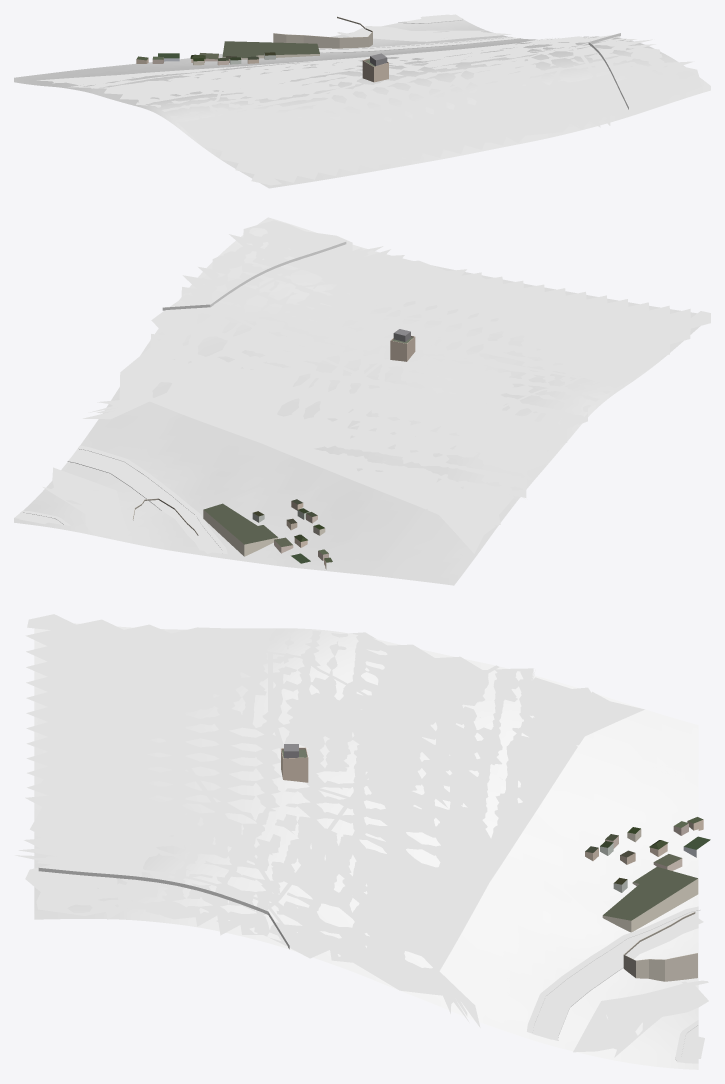
The picture shows the model from 3 angles, top to bottom: view 1: azimuth 30°, elevation 25°; view 2: azimuth 150°, elevation 25°; view 3: azimuth 270°, elevation 25°; orthographic projection. The views are drawn at different scales.
Visible parts, largest first — view 1: t0_-7_-5; view 2: t0_-7_-5; view 3: t0_-7_-5.
Boxes of the visible parts, x1,y1,x2,y2 form: t0_-7_-5: (14,14,710,188); t0_-7_-5: (14,217,710,585); t0_-7_-5: (15,614,710,1069).
Bounding box in the file's own units: 273 × 74.01 × 269.
